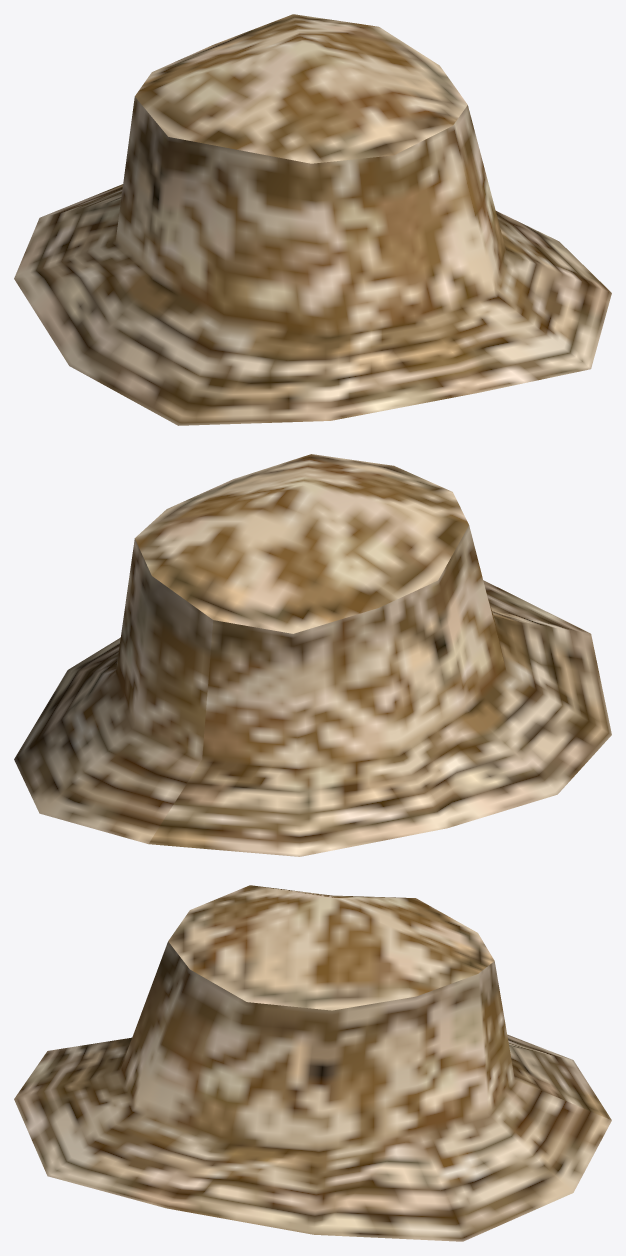
Rendered from UK_Hat_Desert.glb.
The picture shows the model from 3 angles, top to bottom: view 1: azimuth 30°, elevation 25°; view 2: azimuth 150°, elevation 25°; view 3: azimuth 270°, elevation 25°; orthographic projection. The views are drawn at different scales.
Visible parts, largest first — view 1: UK_HAT_DESERT; view 2: UK_HAT_DESERT; view 3: UK_HAT_DESERT.
Boxes of the visible parts, x1,y1,x2,y2 form: UK_HAT_DESERT: (14,14,611,425); UK_HAT_DESERT: (14,454,611,856); UK_HAT_DESERT: (14,885,611,1241).
Size of the model in its own units: 0.305 by 0.163 by 0.357.
1 material, 1 textured.
